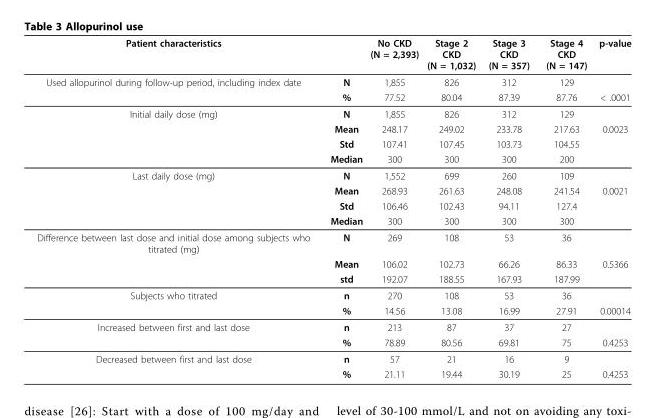table: (36, 36, 630, 379)
table column: (36, 36, 319, 379), (422, 36, 481, 379), (365, 36, 422, 379), (481, 36, 537, 379), (537, 36, 592, 379), (319, 36, 365, 379), (592, 36, 630, 379)
table column header: (36, 36, 630, 73)
table row: (36, 36, 630, 73), (36, 228, 630, 255), (36, 73, 630, 89), (36, 89, 630, 105), (36, 105, 630, 121), (36, 166, 630, 182), (36, 212, 630, 228), (36, 270, 630, 286), (36, 286, 630, 302), (36, 302, 630, 318), (36, 318, 630, 334), (36, 334, 630, 350), (36, 350, 630, 366), (36, 121, 630, 136), (36, 136, 630, 151), (36, 151, 630, 166), (36, 182, 630, 197), (36, 197, 630, 212), (36, 255, 630, 270), (36, 366, 630, 379)
table spanning cell: (36, 166, 319, 228), (36, 105, 319, 166), (36, 228, 319, 286), (36, 73, 319, 105), (36, 286, 319, 318), (36, 318, 319, 350), (36, 350, 319, 379)
